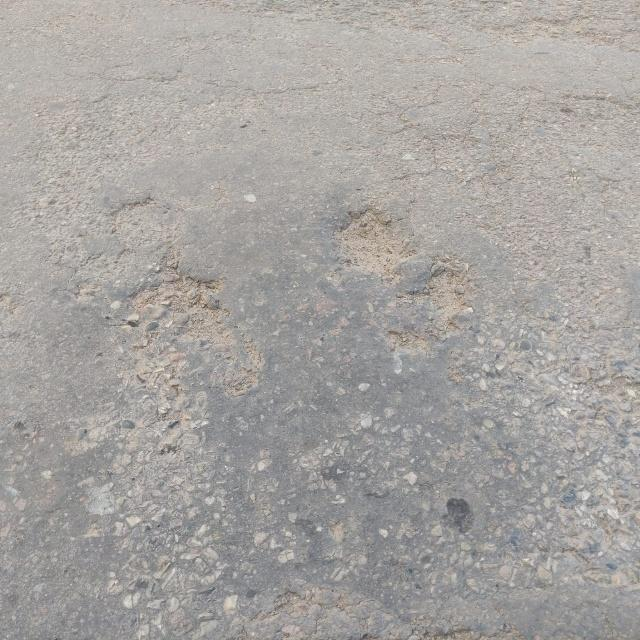Surface Erosion: (48, 150, 618, 640)
